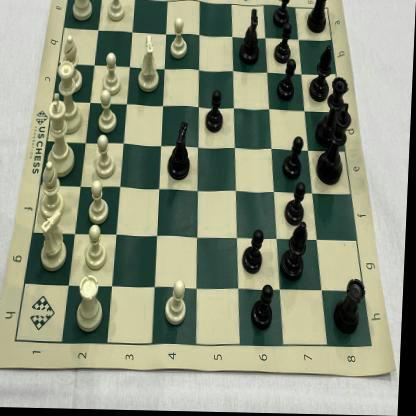black-bishop: (336, 278, 370, 334), (282, 223, 310, 280), (309, 45, 332, 103), (308, 0, 330, 34)
black-king: (318, 102, 352, 186)
black-knight: (168, 122, 196, 181), (238, 6, 262, 66)
black-pawn: (244, 228, 268, 276), (254, 284, 278, 331), (284, 134, 307, 182), (286, 183, 310, 227), (204, 88, 226, 132), (278, 58, 298, 102), (274, 24, 294, 64), (273, 0, 292, 28)
black-queen: (317, 76, 351, 149)
white-bishop: (41, 164, 68, 223), (62, 36, 86, 96)
white-king: (47, 94, 79, 181)
white-knight: (38, 212, 72, 274), (138, 35, 162, 94)
white-pawn: (84, 227, 112, 273), (92, 135, 119, 180), (86, 182, 112, 228), (166, 282, 190, 330), (102, 53, 124, 98), (98, 92, 120, 135), (169, 18, 189, 62), (106, 0, 127, 26)
white-queen: (56, 61, 86, 137)
white-rook: (78, 276, 107, 336), (71, 0, 93, 22)
